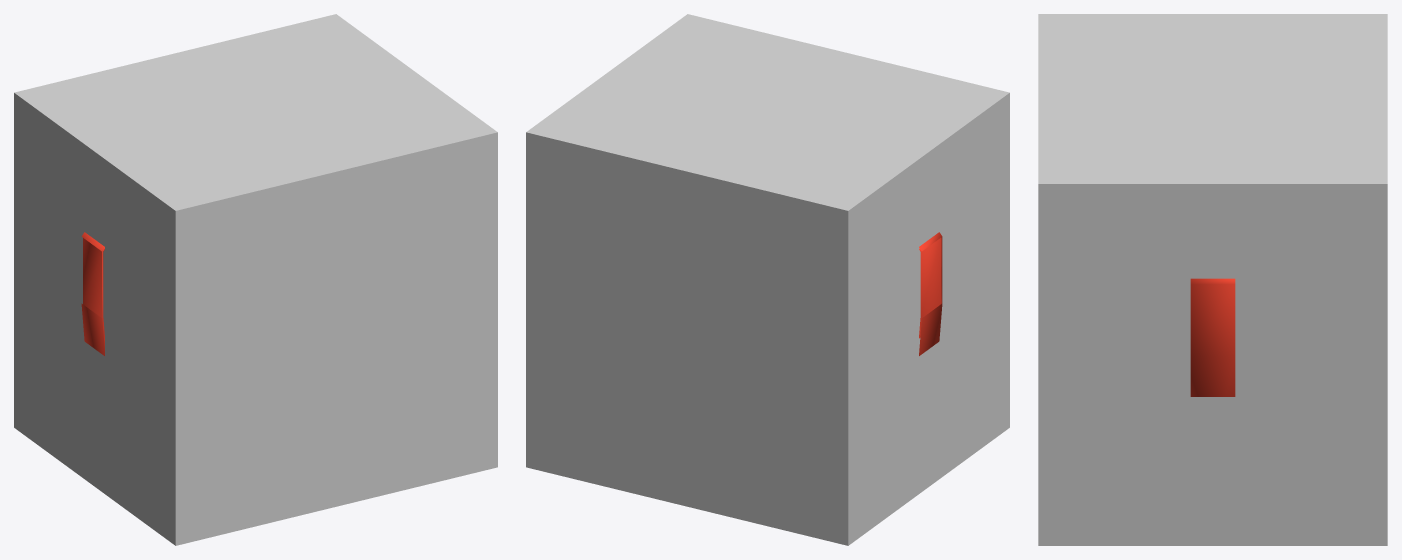
The model's file is giftbox.glb.
The picture shows the model from 3 angles, left to right: view 1: azimuth 30°, elevation 25°; view 2: azimuth 150°, elevation 25°; view 3: azimuth 270°, elevation 25°; orthographic projection. The views are drawn at different scales.
Visible parts, largest first — view 1: col-giftbox, r-Cube.001; view 2: col-giftbox, r-Cube.001; view 3: col-giftbox, r-Cube.001.
Part boxes in pixels (x1,y1,x2,y2): col-giftbox: (14, 14, 497, 545); r-Cube.001: (81, 232, 104, 355); col-giftbox: (526, 14, 1009, 545); r-Cube.001: (919, 232, 942, 355); col-giftbox: (1038, 14, 1387, 545); r-Cube.001: (1190, 278, 1235, 396).
Size of the model in its own units: 7.08 by 6.92 by 6.04.
